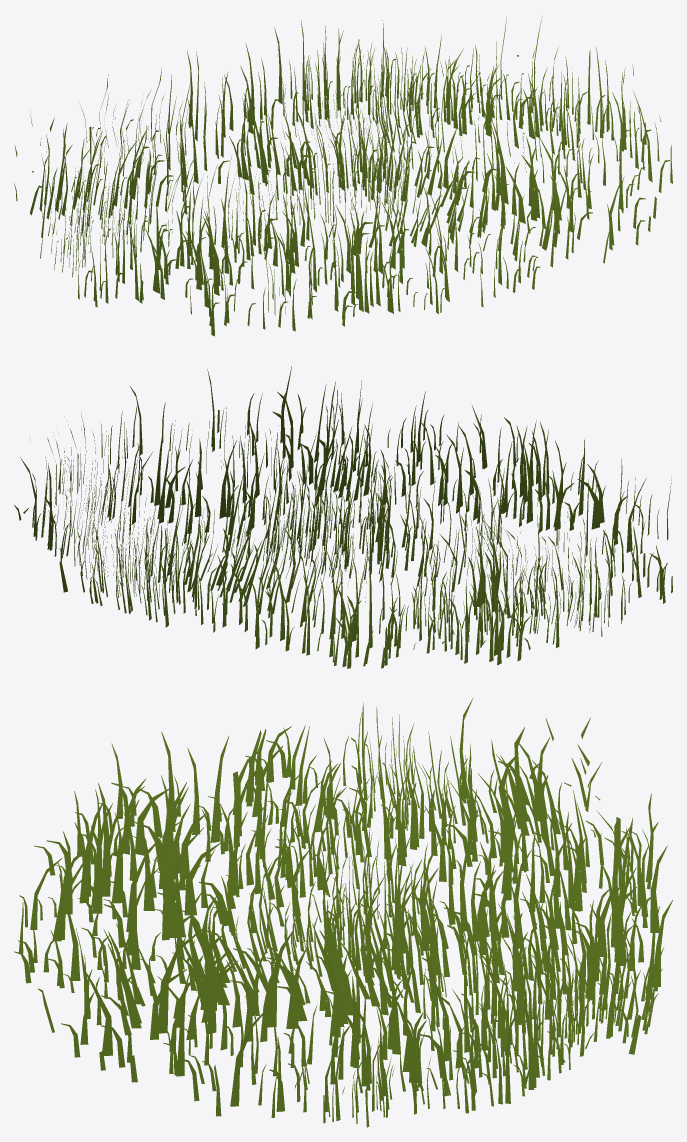
The model's file is MDL_Grass_01.fbx.
3 views of the same model, one above another, from view 1: azimuth 30°, elevation 25°; view 2: azimuth 150°, elevation 25°; view 3: azimuth 270°, elevation 25° (orthographic). The views are drawn at different scales.
Visible parts, largest first — view 1: Grass.004; view 2: Grass.004; view 3: Grass.004.
Part boxes in pixels (x1,y1,x2,y2): Grass.004: (14, 16, 672, 336); Grass.004: (14, 366, 672, 668); Grass.004: (14, 698, 672, 1127).
Size of the model in its own units: 146 by 21.06 by 114.
